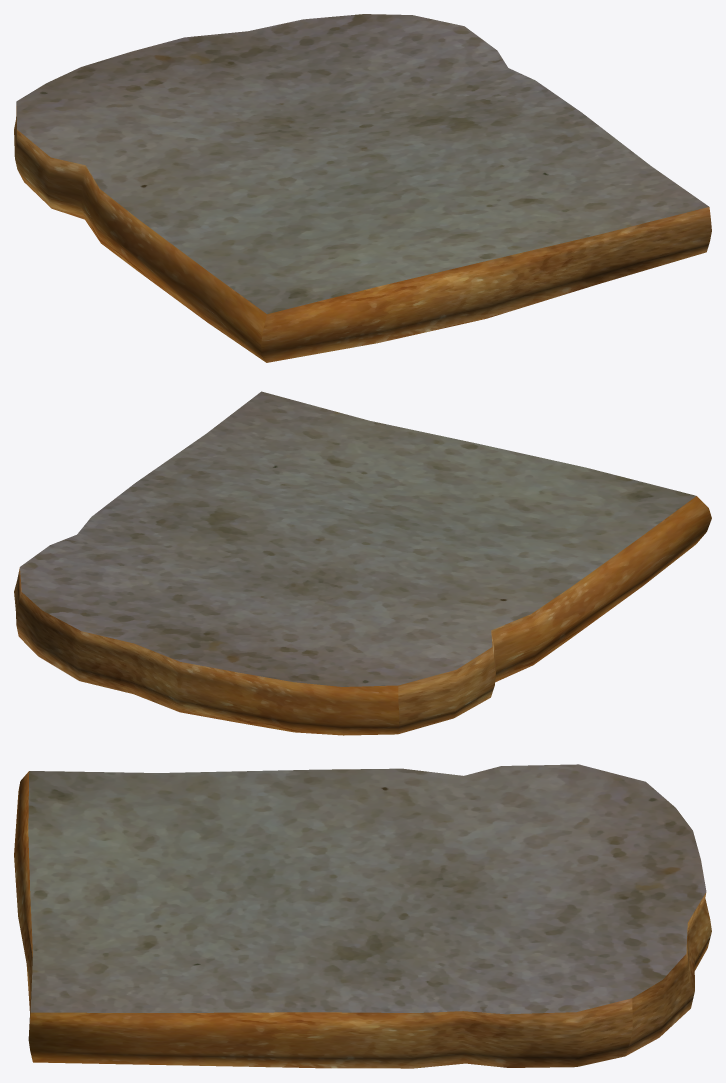
Rendered from breadslice_sans_pbutter.fbx.
3 views of the same model, one above another, from view 1: azimuth 30°, elevation 25°; view 2: azimuth 150°, elevation 25°; view 3: azimuth 270°, elevation 25° (orthographic). The views are drawn at different scales.
Parts seen in each view (by area): view 1: Cube; view 2: Cube; view 3: Cube.
Part boxes in pixels (x1=…): Cube: x1=14, y1=14, x2=711, y2=362; Cube: x1=14, y1=391, x2=711, y2=735; Cube: x1=14, y1=764, x2=711, y2=1068.
Bounding box in the file's own units: 5.56 × 0.8148 × 6.52.
